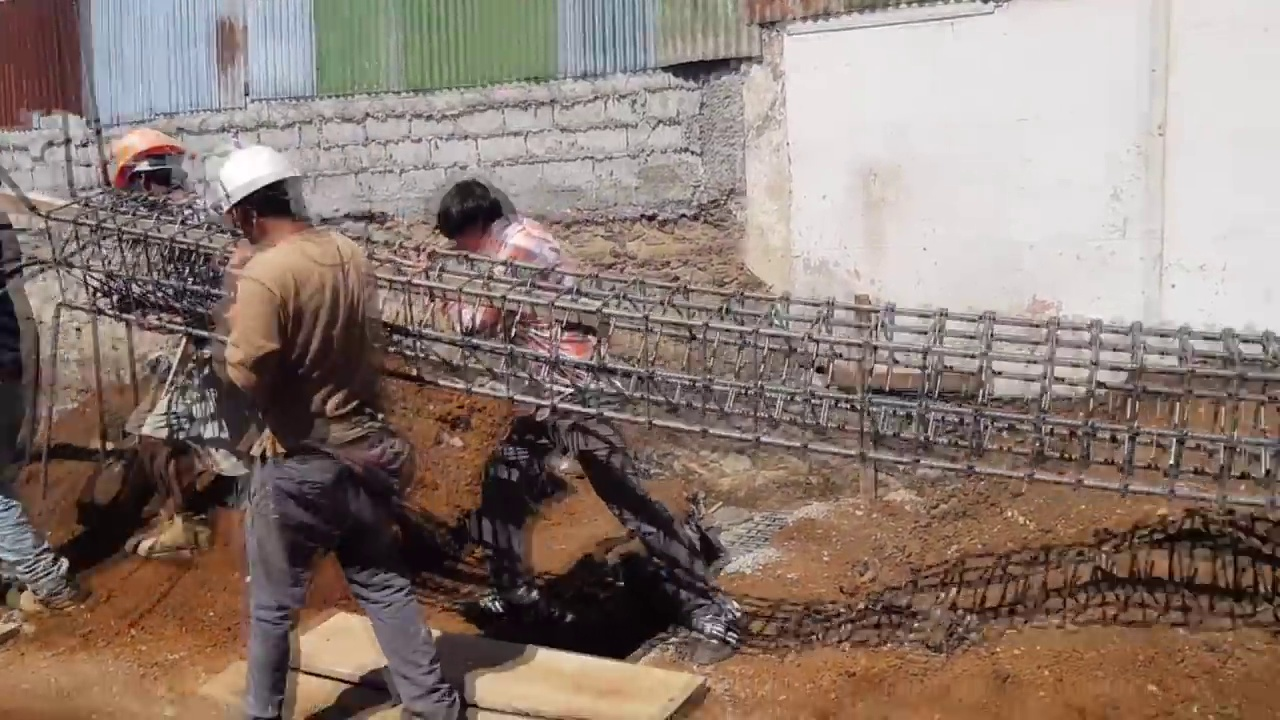helmet: (221, 144, 304, 217), (99, 127, 173, 184)
helmet-off: (428, 175, 513, 266)
helmet-on: (219, 144, 319, 251), (106, 127, 187, 207)
person: (424, 175, 745, 664), (195, 139, 460, 718), (98, 124, 256, 562)
